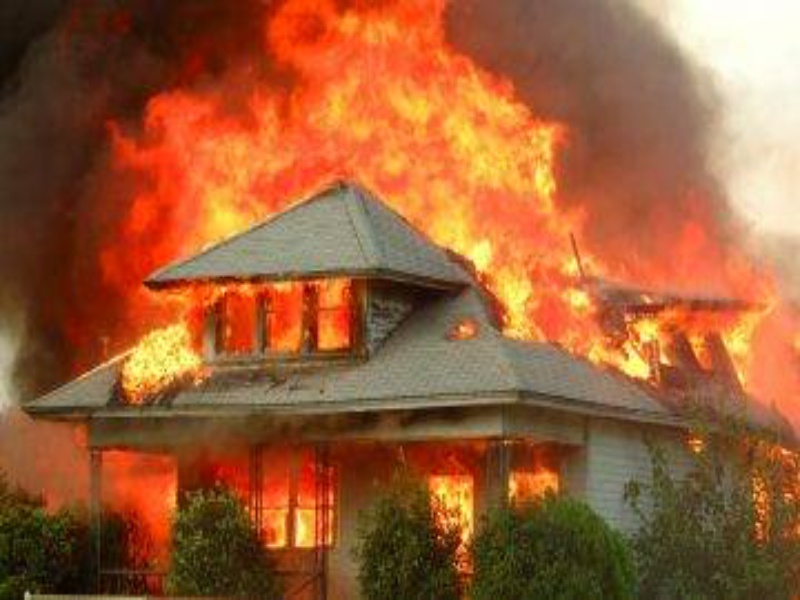fire: (112, 112, 559, 403), (624, 250, 770, 381), (241, 470, 338, 555), (558, 236, 614, 373), (428, 473, 486, 597), (507, 467, 563, 506), (156, 475, 176, 548)
